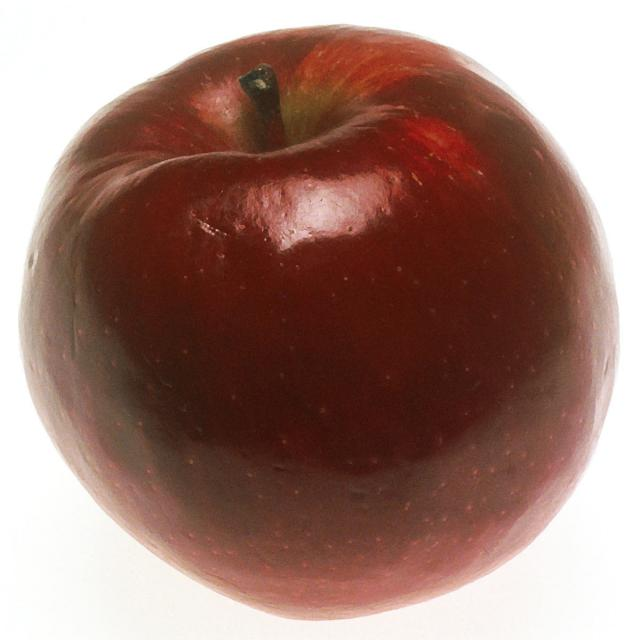Apple: (24, 22, 622, 617)
